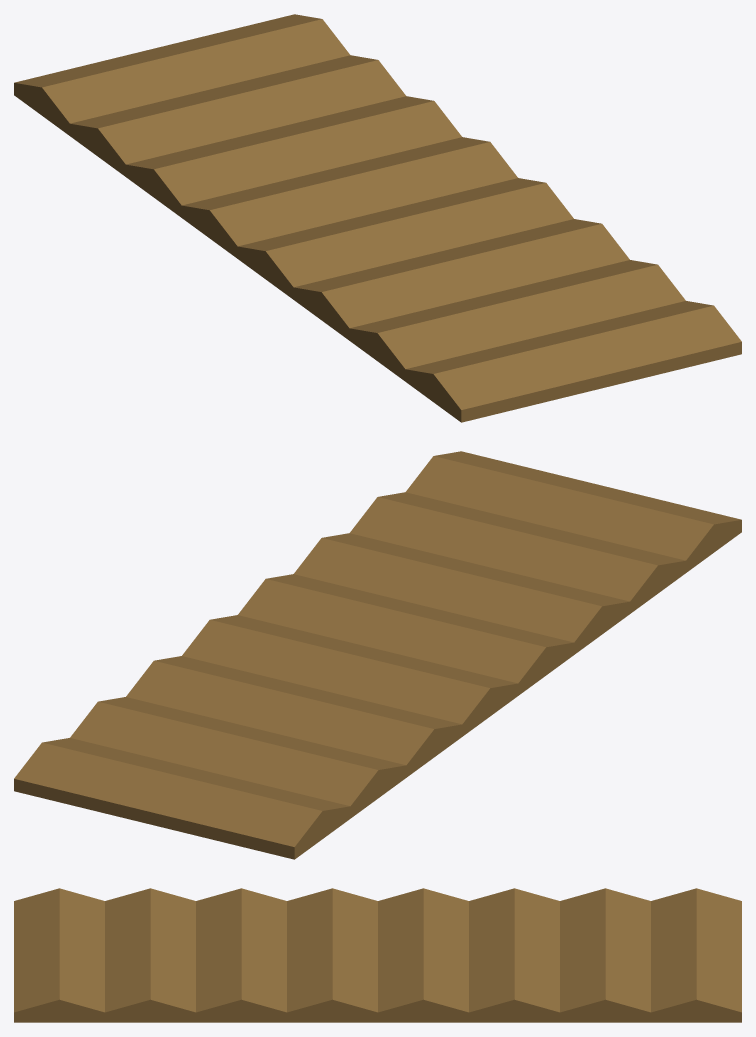
Rendered from road.fbx.
3 renders of one model, top to bottom at view 1: azimuth 30°, elevation 25°; view 2: azimuth 150°, elevation 25°; view 3: azimuth 270°, elevation 25°, orthographic. The views are drawn at different scales.
Parts seen in each view (by area): view 1: Cube_3; view 2: Cube_3; view 3: Cube_3.
Part boxes in pixels (x1,y1,x2,y2): Cube_3: [14, 14, 741, 422]; Cube_3: [14, 451, 741, 859]; Cube_3: [14, 888, 741, 1022].
Size of the model in its own units: 200 by 19.22 by 552.
